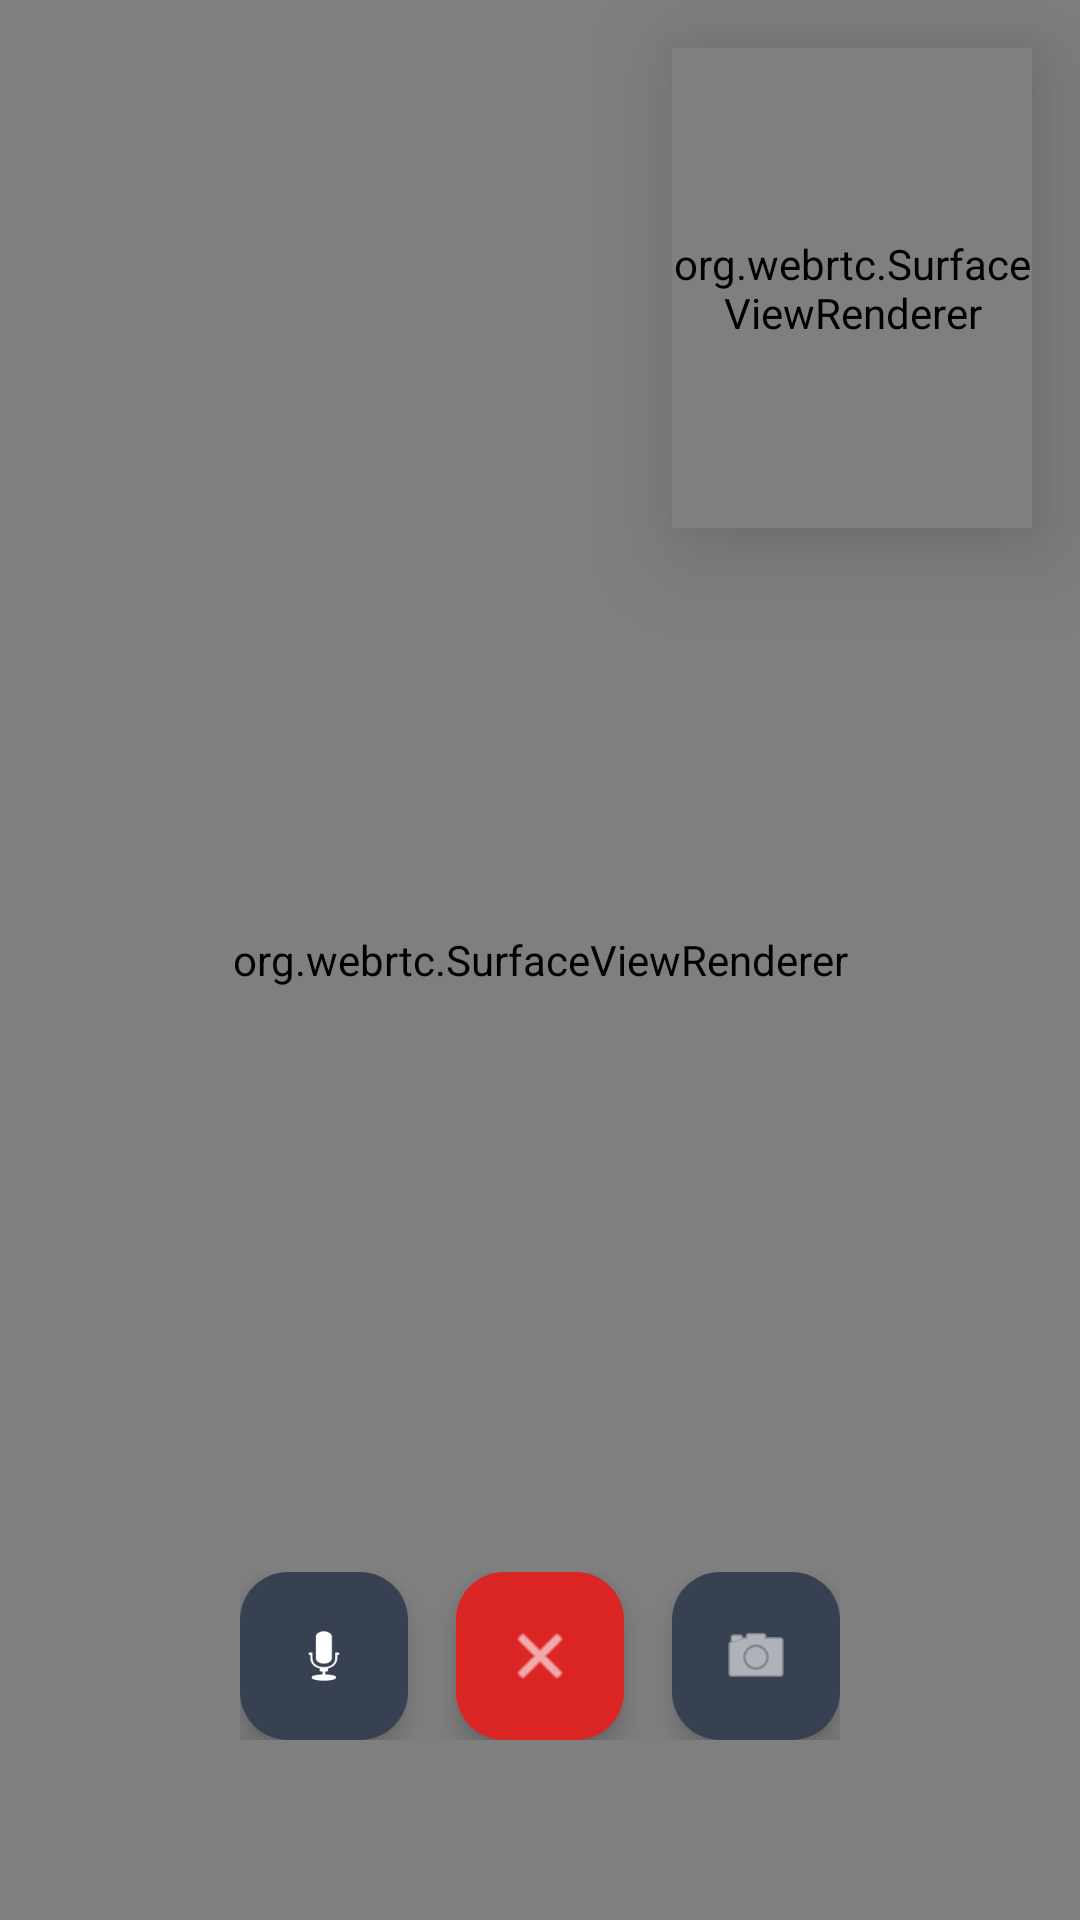

Icons on this 1080 × 1920 Android screen, each with its box as {"x1": x1, "y1": y1, "x2": x2, "y2": y2}:
camera: {"x1": 672, "y1": 1572, "x2": 840, "y2": 1740}
close clear cancel: {"x1": 456, "y1": 1572, "x2": 624, "y2": 1740}
speak now: {"x1": 240, "y1": 1572, "x2": 408, "y2": 1740}
